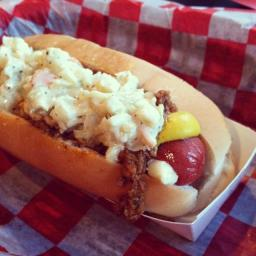hotdog: (1, 26, 230, 228)
